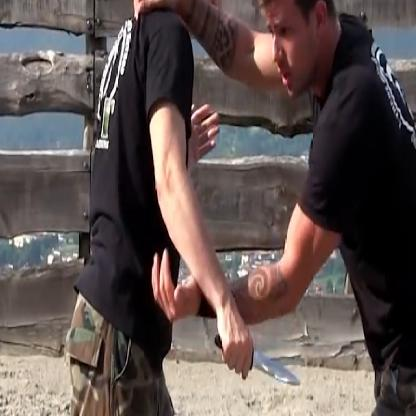knife: (208, 319, 307, 395)
